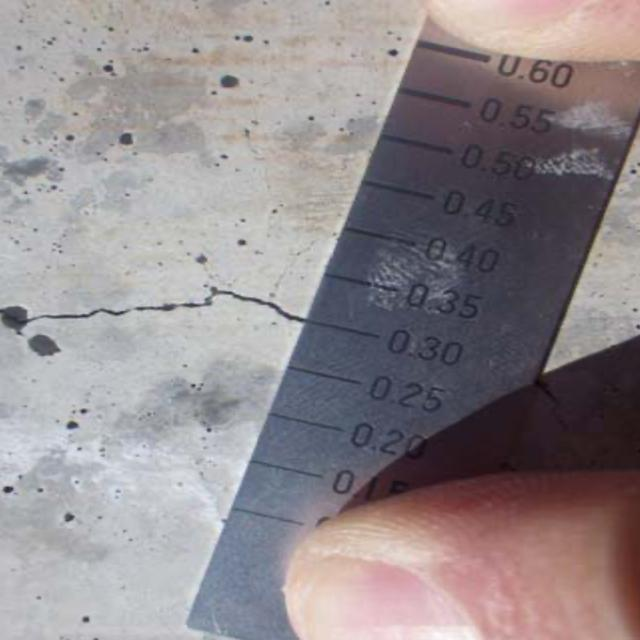crack: (4, 269, 316, 330)
